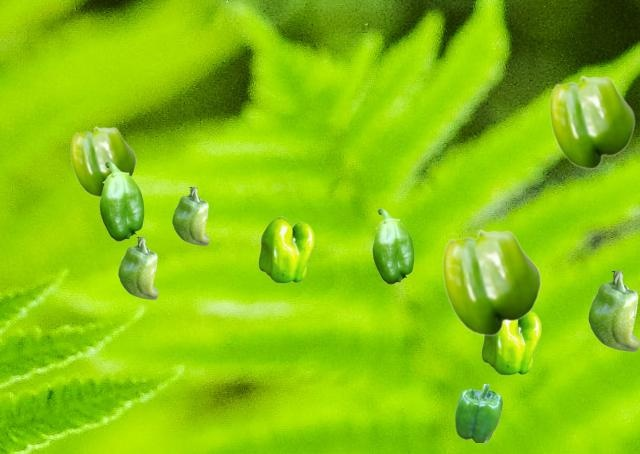bell_pepper: (442, 229, 540, 335), (549, 75, 634, 168), (70, 126, 135, 196), (588, 271, 638, 350), (481, 311, 540, 374), (258, 216, 313, 282), (99, 161, 143, 240), (372, 208, 413, 283), (455, 384, 501, 441), (118, 237, 157, 298), (172, 187, 208, 244)
